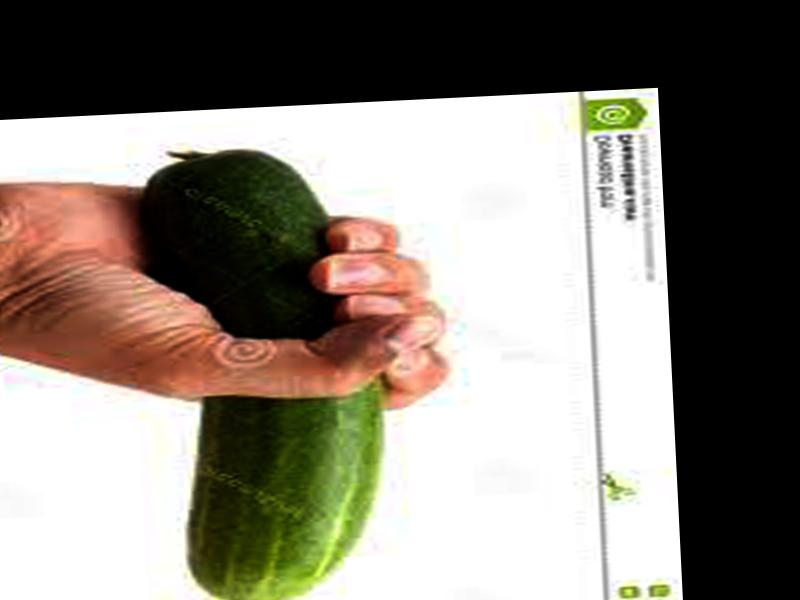Cucumber: (143, 147, 397, 600)
